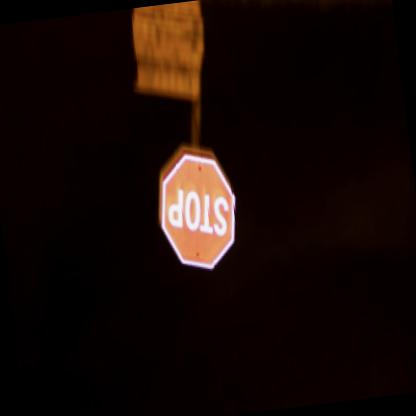stop: (150, 144, 245, 276)
